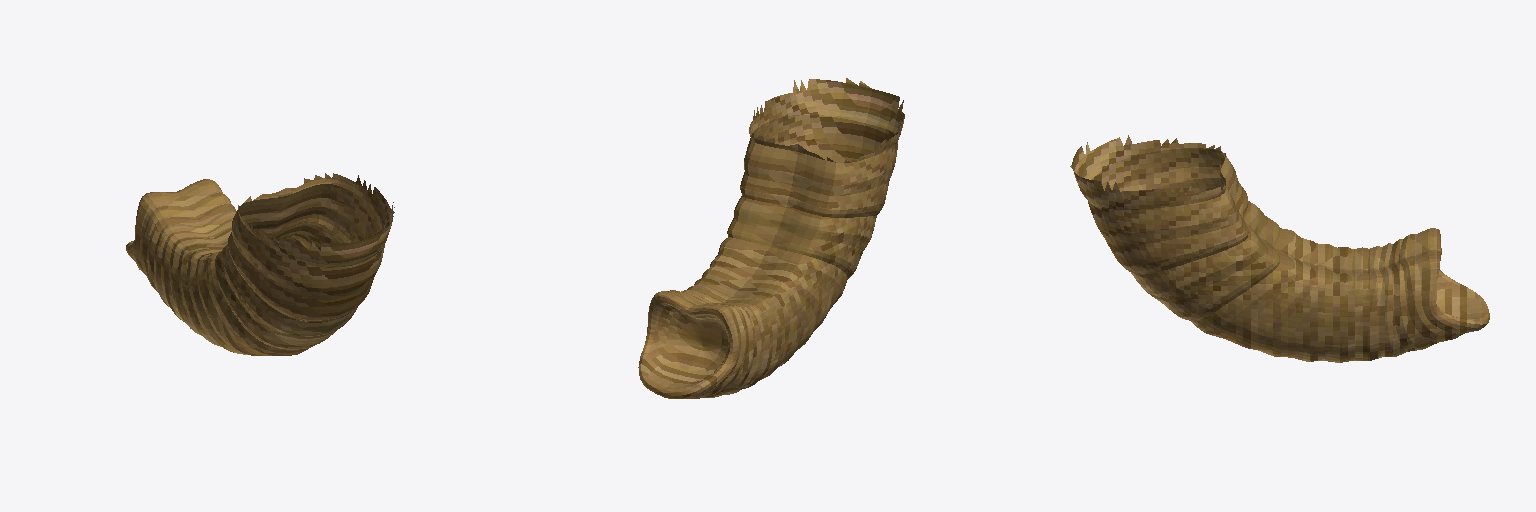
3 views of the same model, side by side, from view 1: azimuth 30°, elevation 25°; view 2: azimuth 150°, elevation 25°; view 3: azimuth 270°, elevation 25° (orthographic).
Visible parts, largest first — view 1: MainEleM.009; view 2: MainEleM.009; view 3: MainEleM.009.
Part boxes in pixels (x1,y1,x2,y2): MainEleM.009: (126, 173, 394, 355); MainEleM.009: (638, 78, 904, 398); MainEleM.009: (1070, 135, 1489, 362).
Bounding box in the file's own units: 0.2188 × 0.3517 × 0.6557.
Materials: 1 (1 with a texture image).